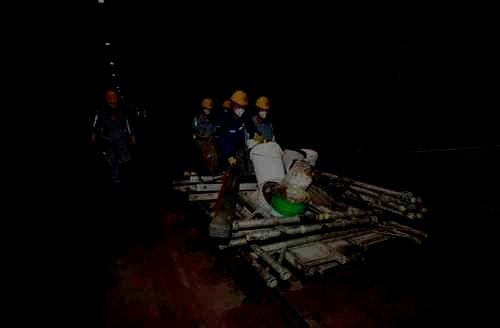helmet: (230, 91, 249, 117), (255, 96, 269, 119), (105, 91, 120, 108), (201, 98, 213, 115), (223, 100, 230, 114)
